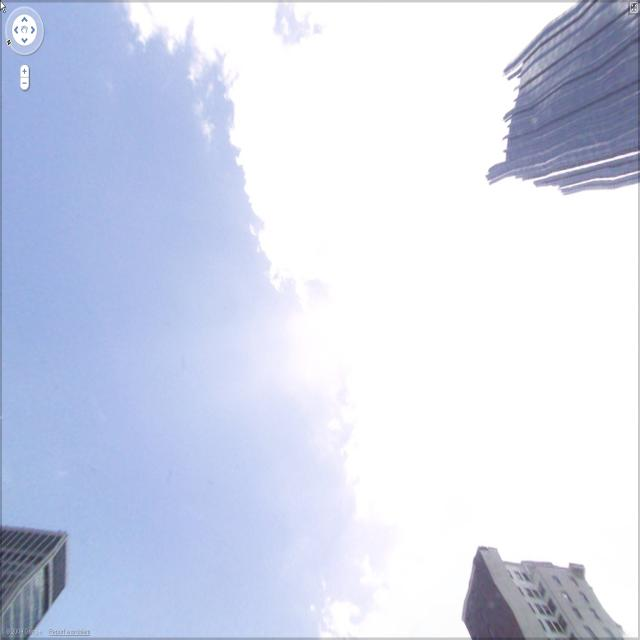b_1: (488, 11, 640, 187), (464, 537, 614, 640), (5, 521, 70, 629)
